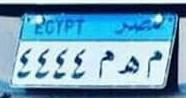4: (68, 49, 89, 84), (50, 47, 68, 80), (16, 47, 32, 80), (33, 48, 48, 80)
haa: (118, 54, 140, 76)
meem: (142, 49, 164, 80), (94, 49, 116, 79)
